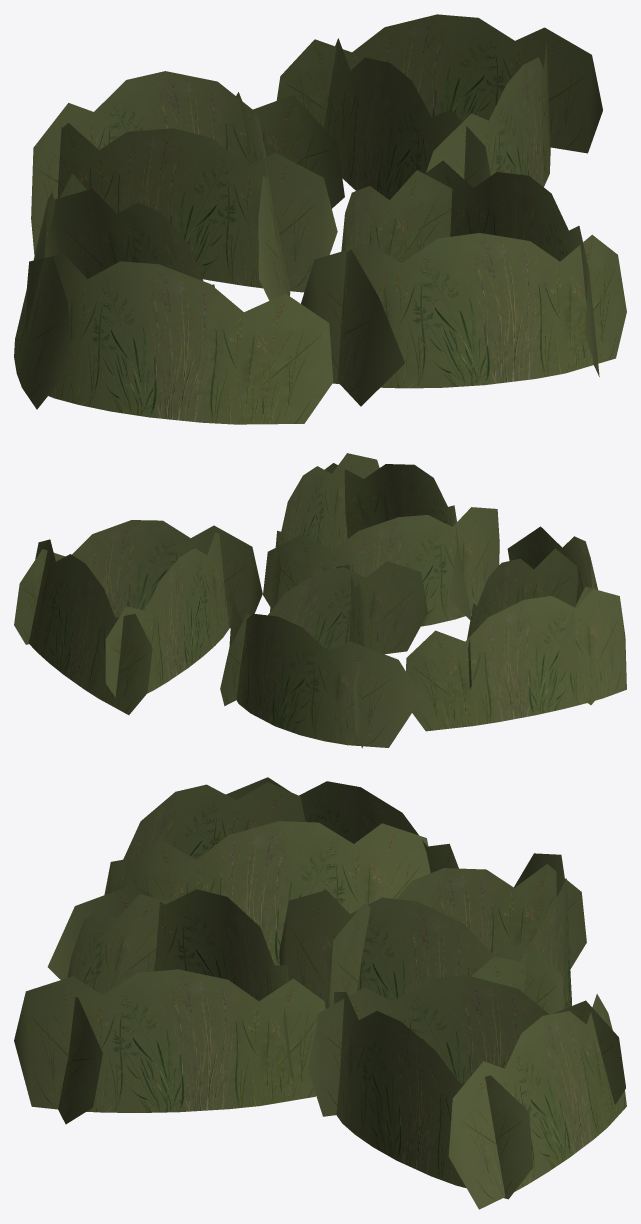
File: SM_Grass03.fbx
3 views of the same model, one above another, from view 1: azimuth 30°, elevation 25°; view 2: azimuth 150°, elevation 25°; view 3: azimuth 270°, elevation 25° (orthographic). The views are drawn at different scales.
Visible parts, largest first — view 1: Grass03_LOD0; view 2: Grass03_LOD0; view 3: Grass03_LOD0.
Boxes of the visible parts, box(x1,y1,x2,y2) form: Grass03_LOD0: box(14, 14, 626, 424); Grass03_LOD0: box(14, 453, 626, 748); Grass03_LOD0: box(14, 777, 626, 1209).
Size of what is drawn, in the model's own units: 308 by 378 by 81.11.
